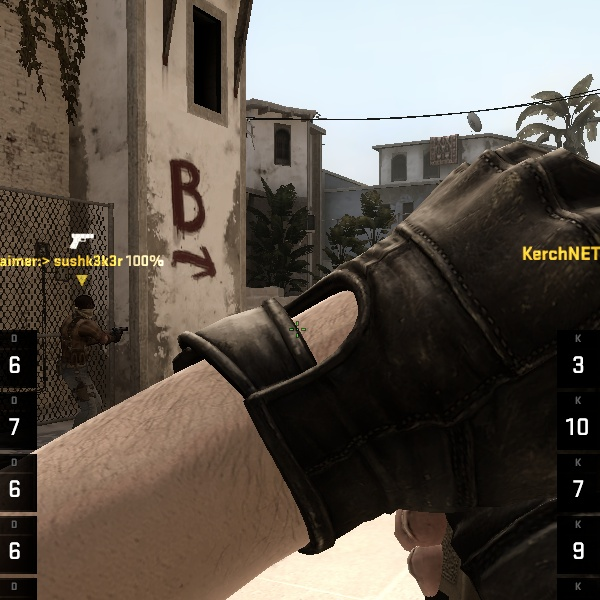t_head: (69, 288, 102, 325)
